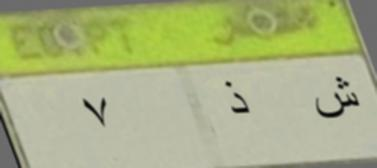7: (78, 92, 118, 134)
sheen: (311, 74, 363, 128)
zaal: (221, 76, 256, 122)
